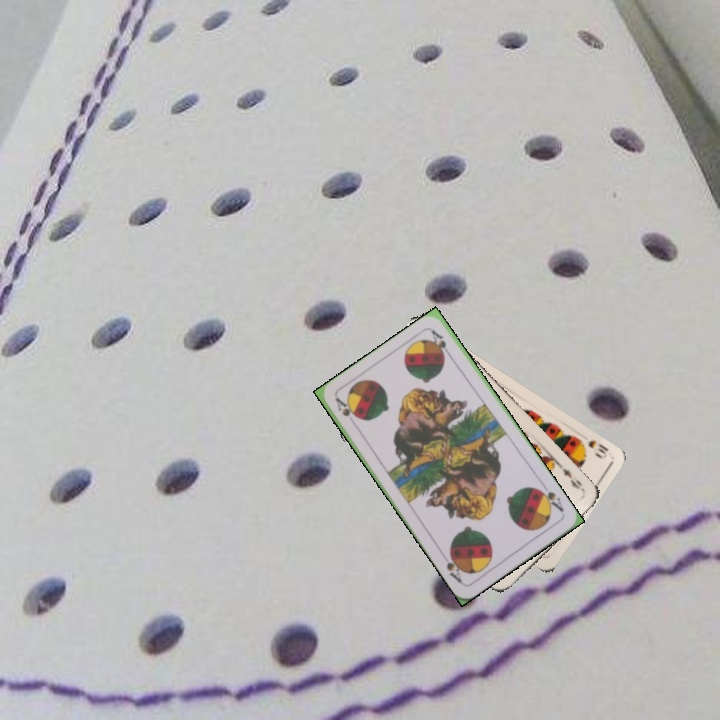E9: (558, 464, 588, 495)
S10: (574, 435, 611, 462)
SA: (533, 480, 566, 514), (331, 393, 359, 420)
